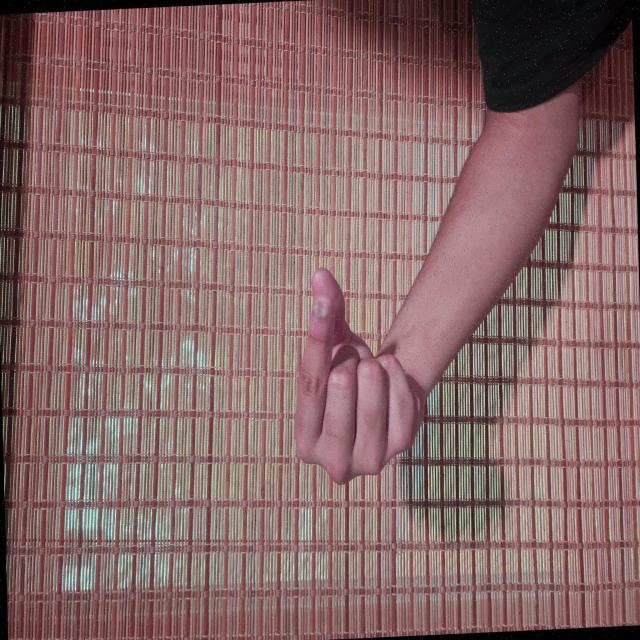Q: (114, 387, 287, 574)
